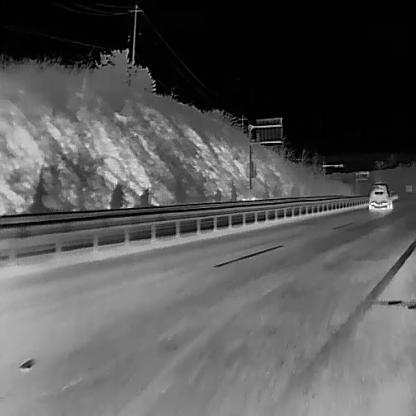car: (366, 181, 393, 212)
